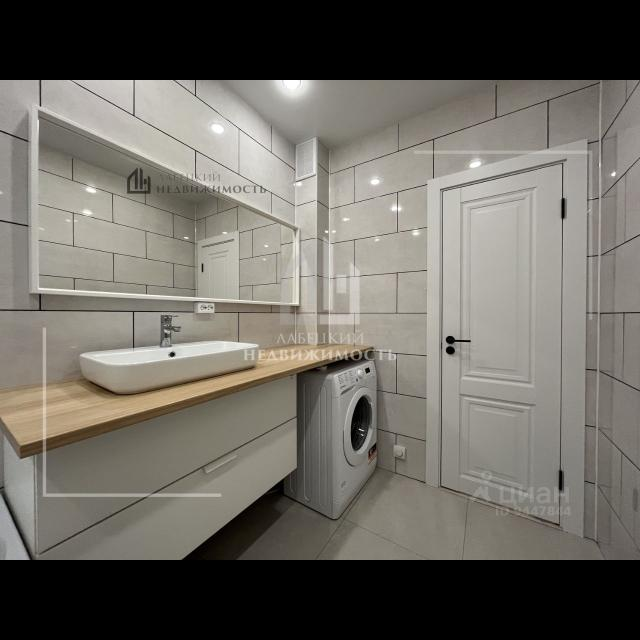Washing-Machine: (307, 358, 378, 514)
